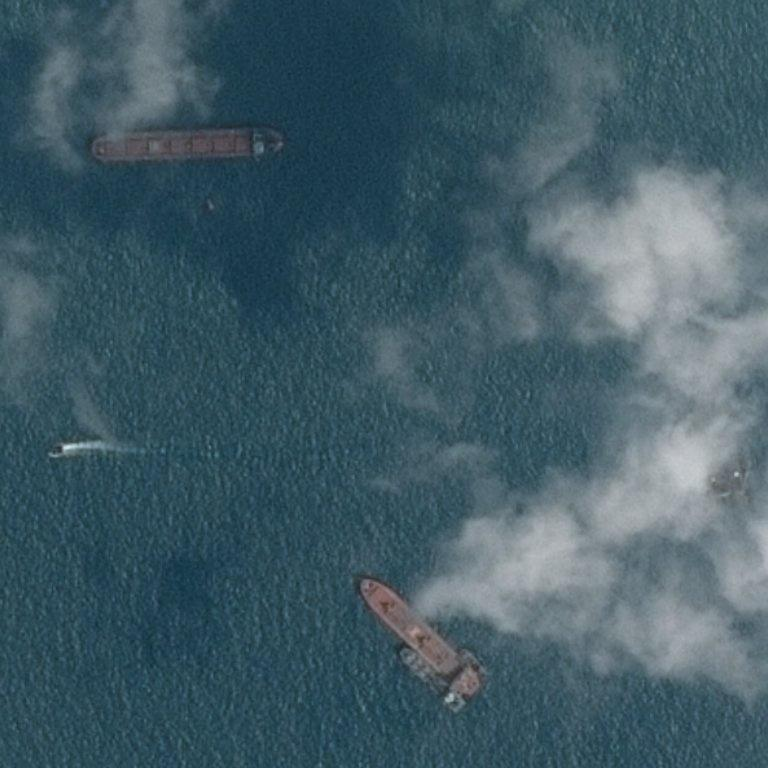ship: (90, 49, 286, 88), (396, 613, 443, 657), (47, 440, 67, 461), (93, 149, 100, 156), (38, 129, 45, 135), (442, 670, 447, 677), (457, 656, 461, 663), (61, 444, 66, 449), (49, 452, 55, 456), (360, 579, 364, 584), (272, 0, 276, 4), (59, 453, 64, 456)
